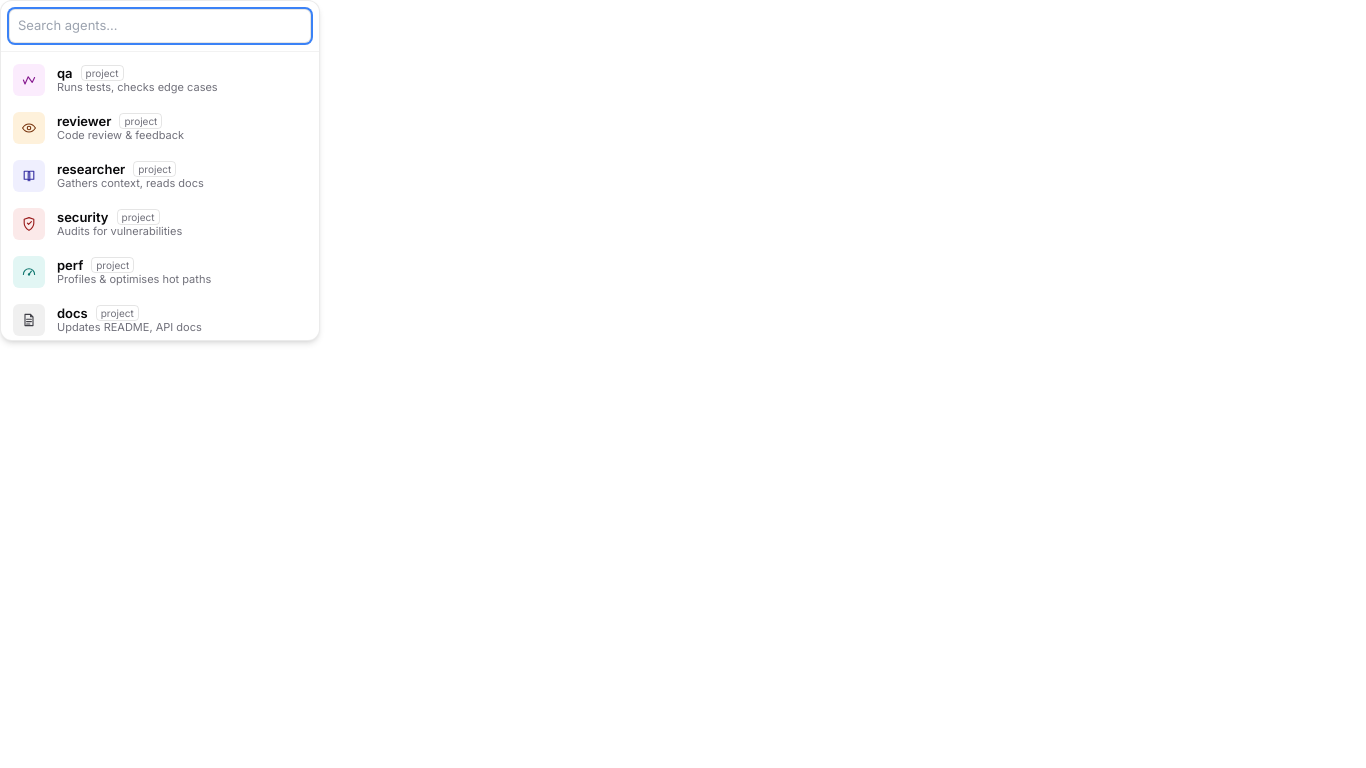
AgentPicker › search matches by name substring: typing 'schema' returns only DB row
Type "schema" into the field with placeholder "Search agents…" at [160, 26], box [9,9,311,42]
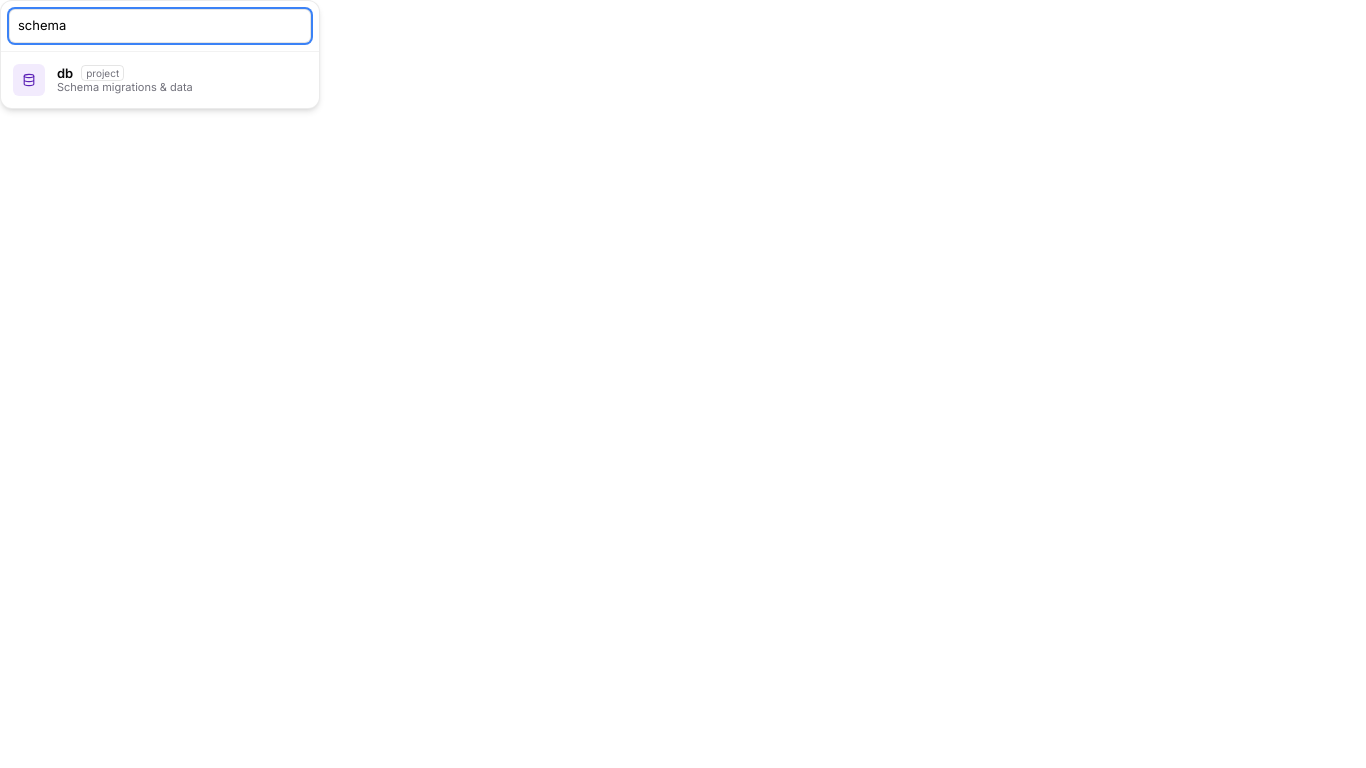
Expected: the button with test id "agent-picker-row-db" is shown, [1,56,319,104]
